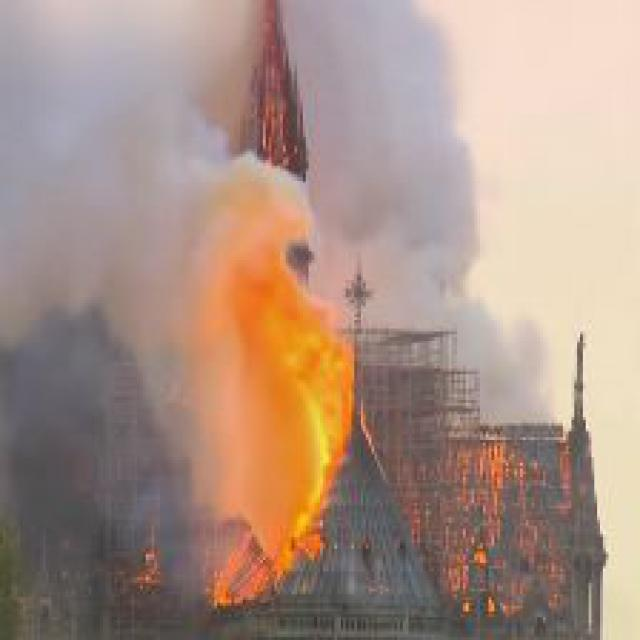fire: (163, 137, 368, 614)
